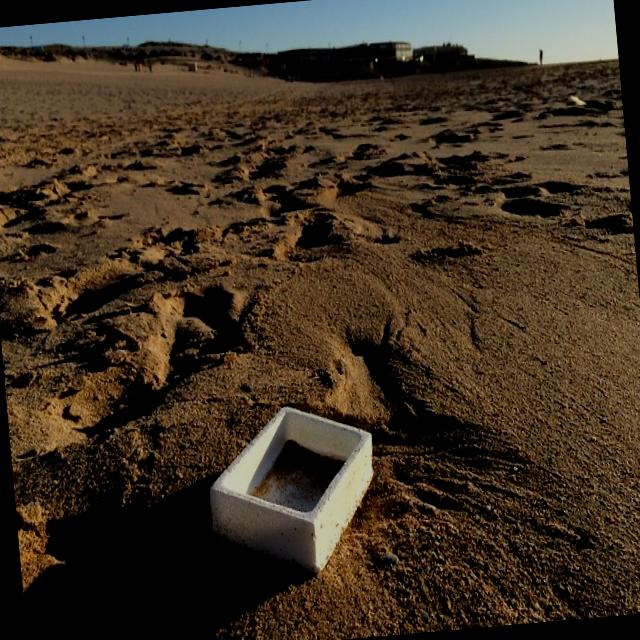Trash: (200, 397, 386, 582)
